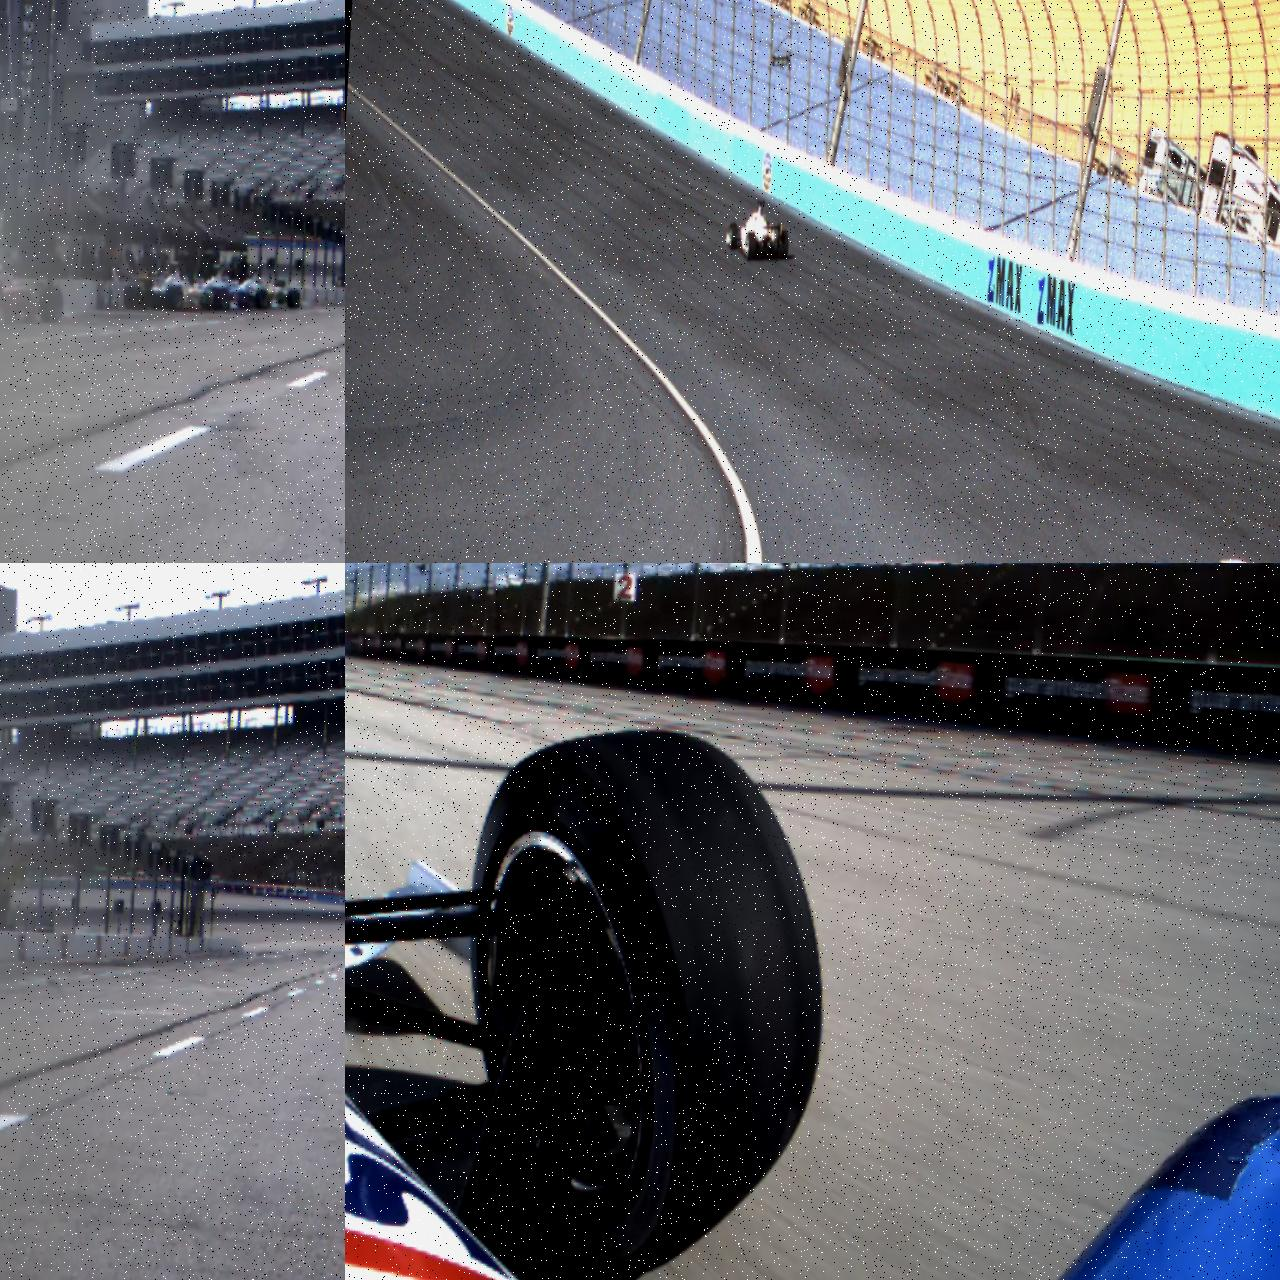AV: (723, 198, 790, 261)
Wheel: (451, 719, 838, 1280), (38, 285, 63, 324), (164, 285, 184, 311), (123, 284, 142, 309), (212, 288, 231, 309), (744, 231, 756, 259), (778, 229, 789, 258), (286, 290, 300, 309), (728, 222, 737, 250), (256, 290, 268, 309)
